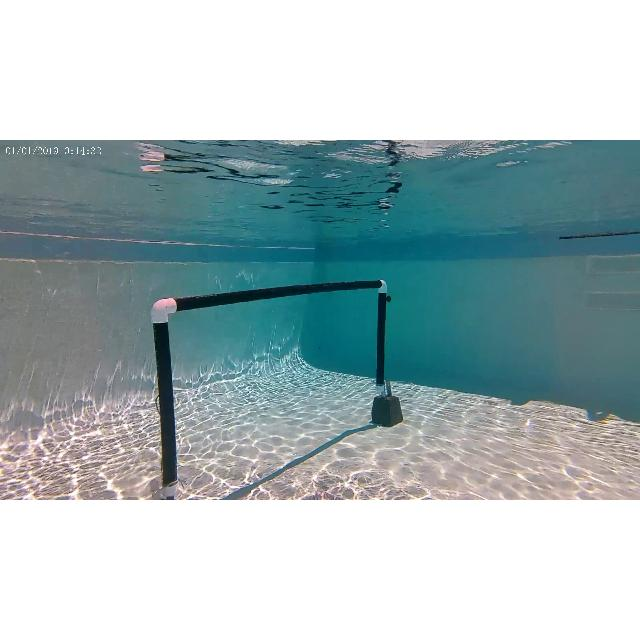prequal gate: (152, 278, 388, 496)
prequal gate leg l: (149, 294, 193, 500)
prequal gate leg r: (365, 277, 395, 393)
